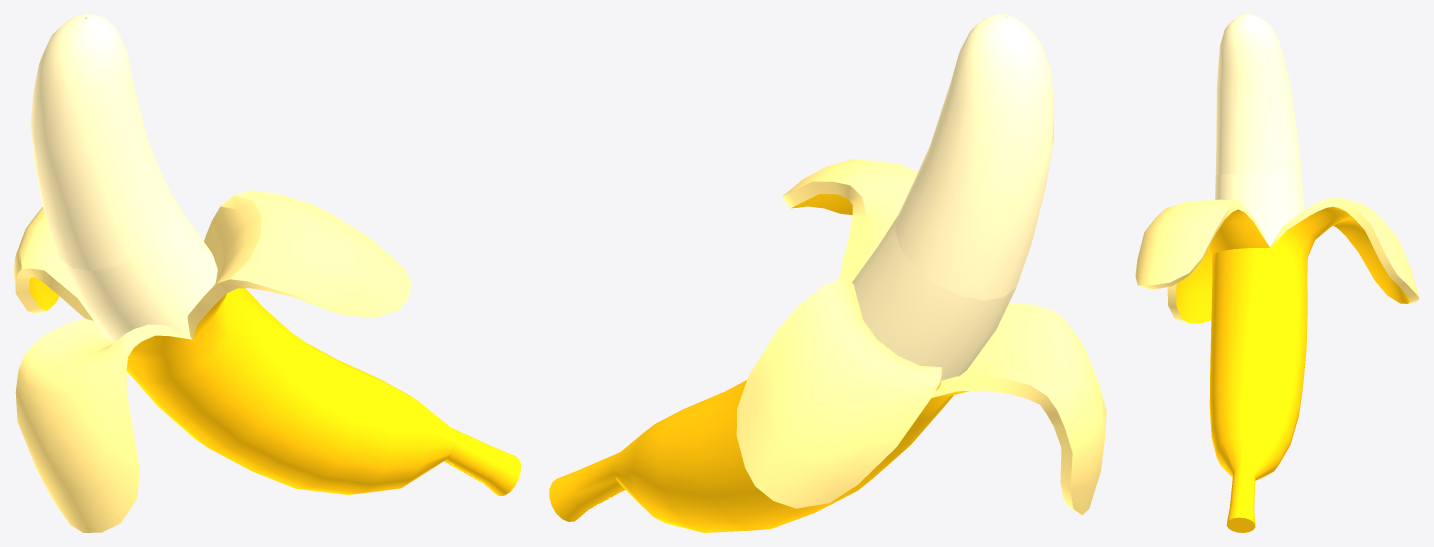
Rendered from banana.gltf.
The picture shows the model from 3 angles, left to right: view 1: azimuth 30°, elevation 25°; view 2: azimuth 150°, elevation 25°; view 3: azimuth 270°, elevation 25°; orthographic projection. The views are drawn at different scales.
Visible parts, largest first — view 1: Circle.028; view 2: Circle.028; view 3: Circle.028.
Part boxes in pixels (left/top/right/bottom): Circle.028: left=14, top=14, right=520, bottom=532; Circle.028: left=549, top=14, right=1106, bottom=532; Circle.028: left=1135, top=14, right=1419, bottom=532.
Bounding box in the file's own units: 2.03 × 2.24 × 1.5.
1 material, 1 textured.
